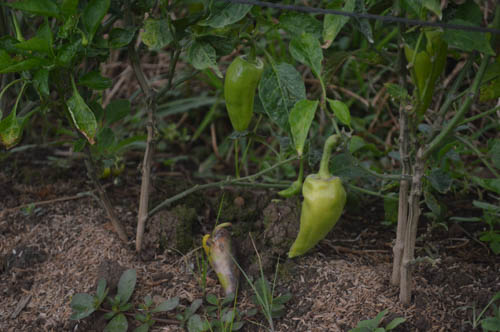ChiliPepper: (288, 178, 348, 254), (226, 55, 264, 135)
